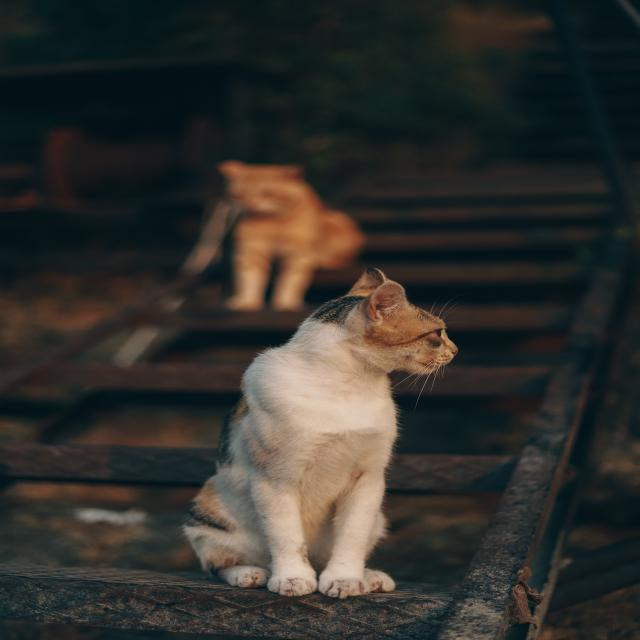cat: (244, 280, 456, 610)
